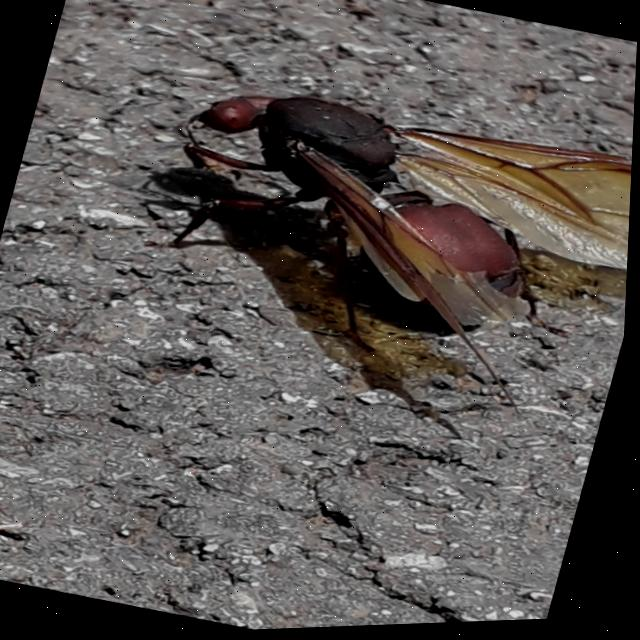Alive-Female-Alate: (125, 59, 637, 448)
